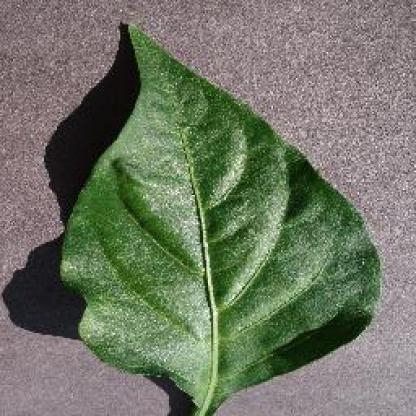bad leaf: (65, 8, 356, 414)
